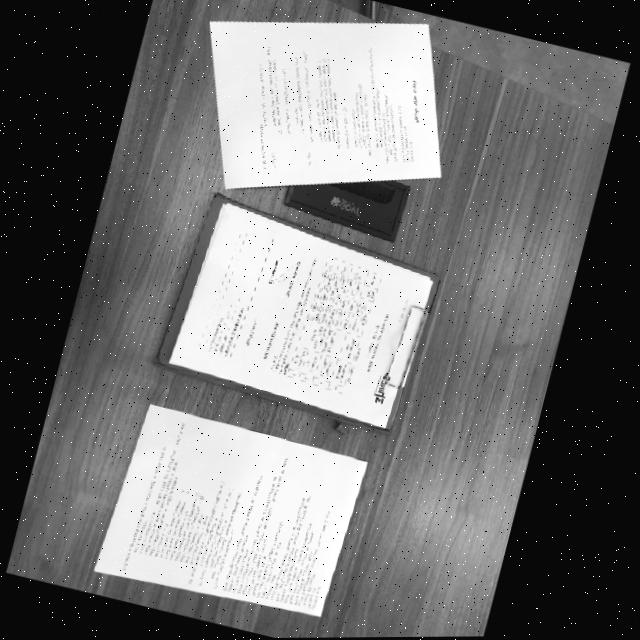document: (169, 202, 434, 428), (94, 404, 367, 617), (209, 21, 440, 188)
